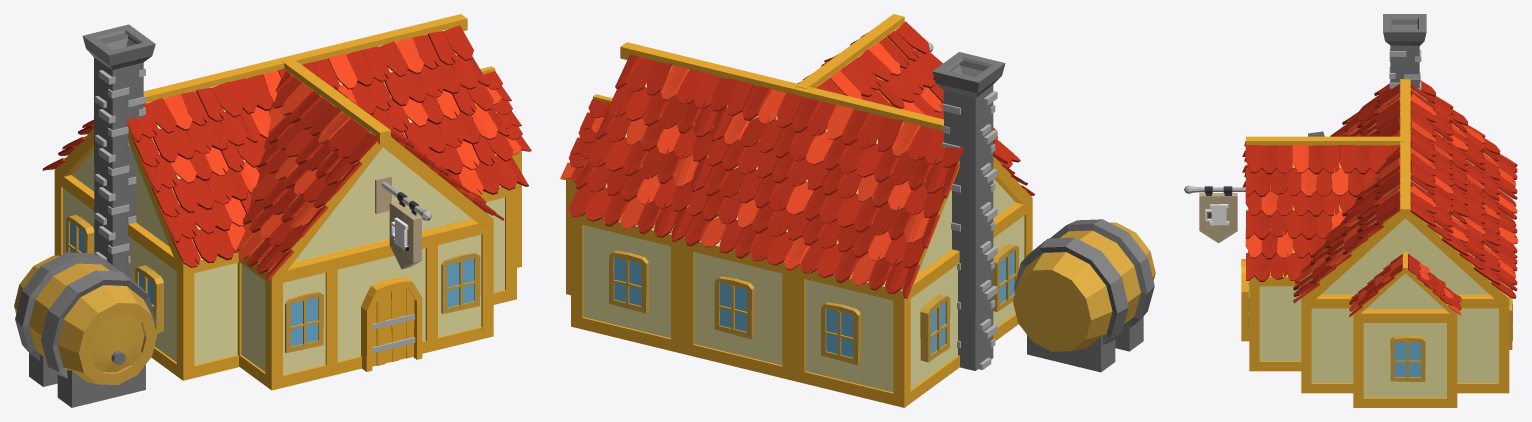
The model's file is Cocina.fbx.
The picture shows the model from 3 angles, left to right: view 1: azimuth 30°, elevation 25°; view 2: azimuth 150°, elevation 25°; view 3: azimuth 270°, elevation 25°; orthographic projection. The views are drawn at different scales.
Visible parts, largest first — view 1: Casa, Techo.001; view 2: Casa, Techo.001; view 3: Techo.001, Casa.
Boxes of the visible parts, x1=… form: Casa: x1=14, y1=24, x2=521, y2=407; Techo.001: x1=42, y1=14, x2=531, y2=280; Casa: x1=566, y1=42, x2=1155, y2=407; Techo.001: x1=560, y1=14, x2=1034, y2=298; Techo.001: x1=1242, y1=79, x2=1517, y2=316; Casa: x1=1184, y1=14, x2=1512, y2=407.
Bounding box in the file's own units: 13.67 × 7.63 × 9.63.
